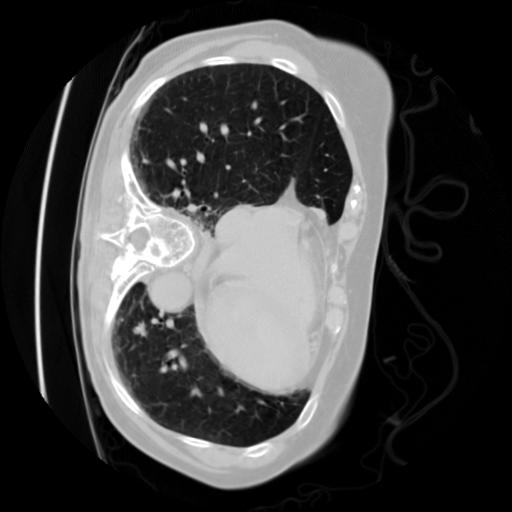nodule: (132, 320, 151, 339)
